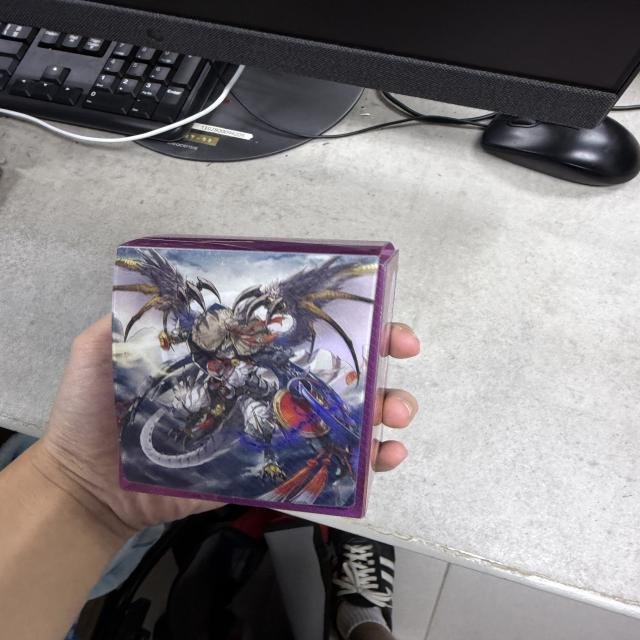box: (114, 238, 396, 520)
